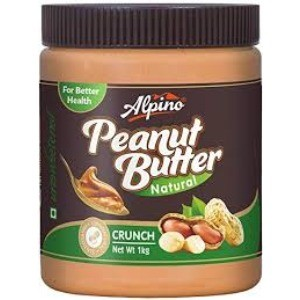peanut butter_brain food: (29, 83, 260, 214)
